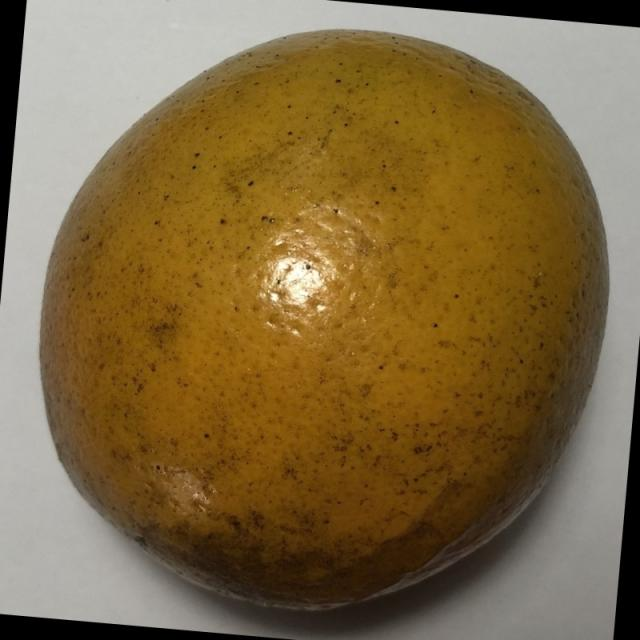black spot: (22, 29, 615, 622)
